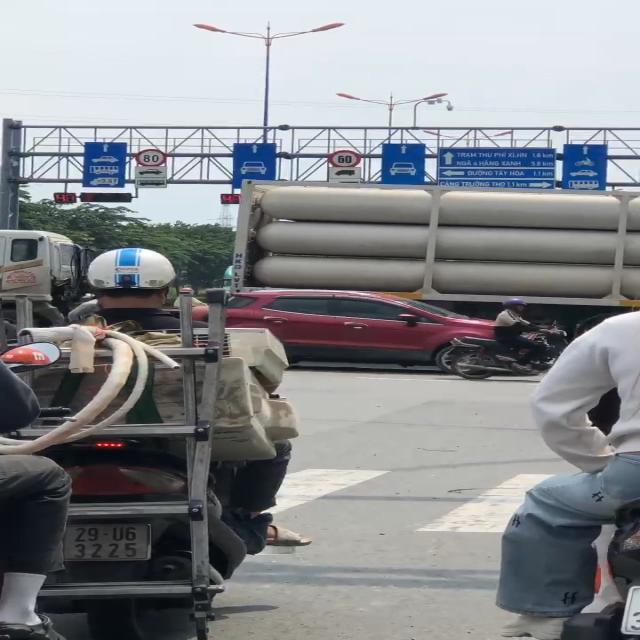Bien bao toc do toi da cho phep: (322, 148, 366, 168), (134, 148, 172, 168)
